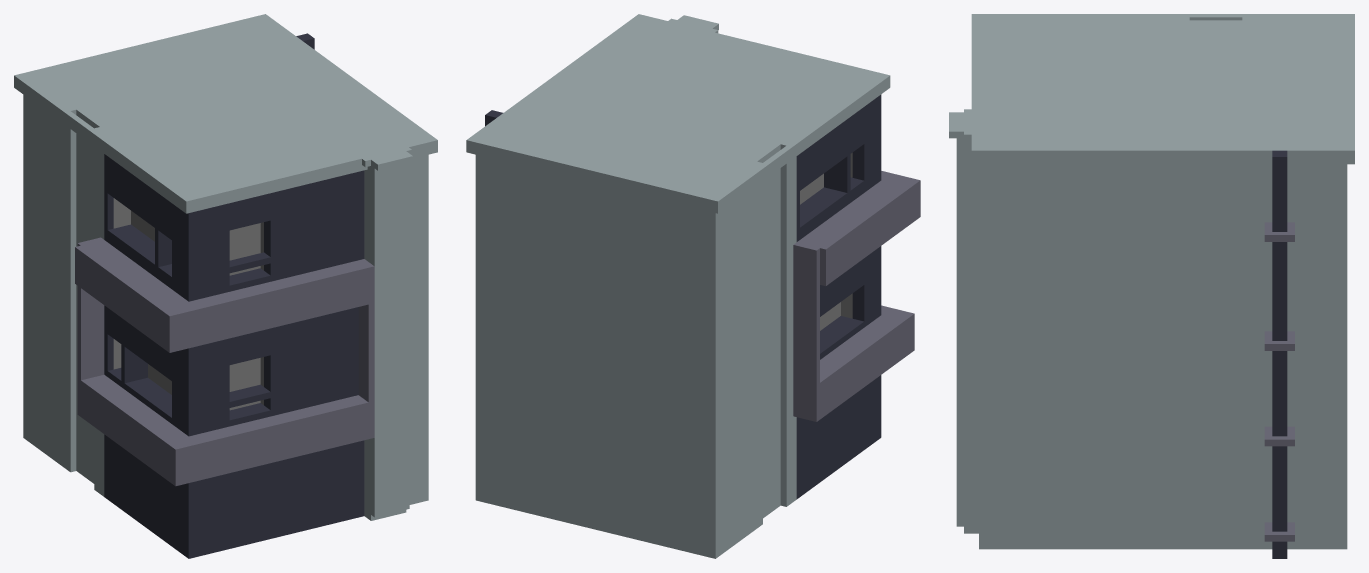
File: Building003(1).obj
The picture shows the model from 3 angles, left to right: view 1: azimuth 30°, elevation 25°; view 2: azimuth 150°, elevation 25°; view 3: azimuth 270°, elevation 25°; orthographic projection. The views are drawn at different scales.
Size of the model in its own units: 5 by 5.9 by 5.4.
Materials: 1 (1 with a texture image).
